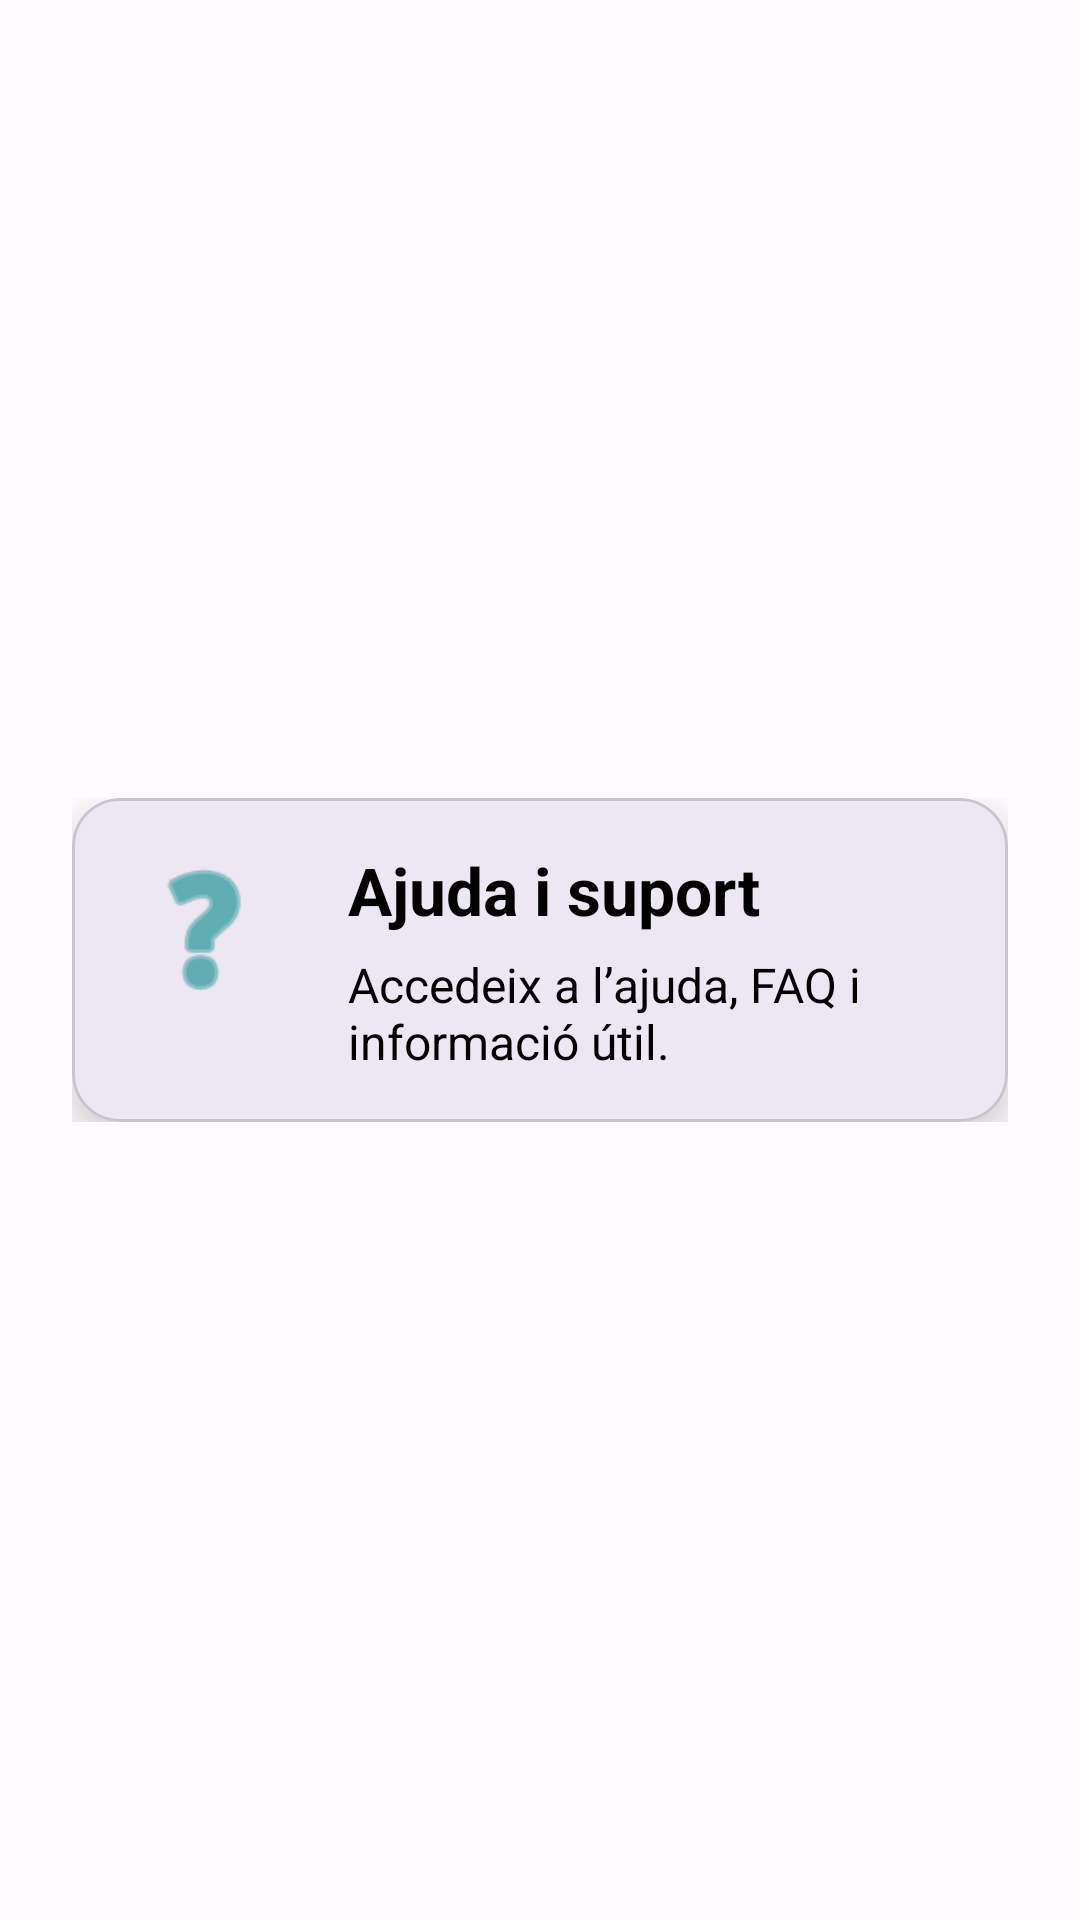

Screen size 1080*1920. Icon name, then its box in pixels as (x1, y1, x2, y2):
help: (167, 870, 241, 990)
